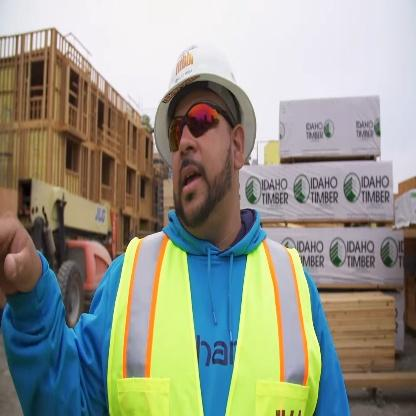helmet: (143, 30, 263, 248)
